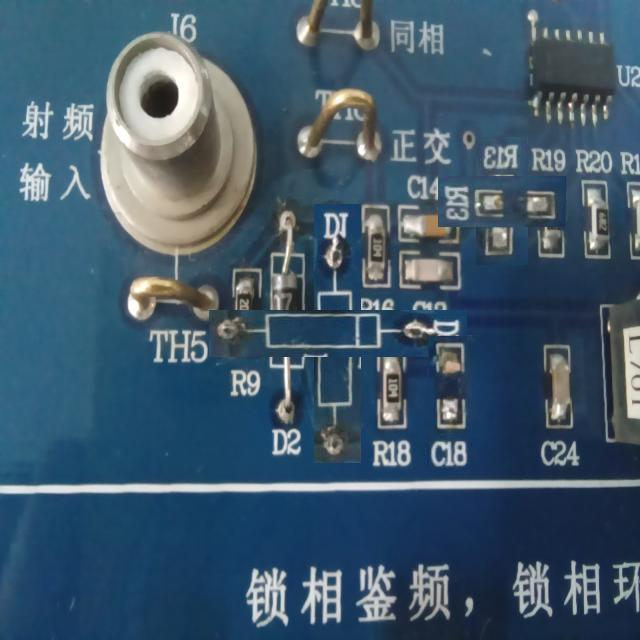miss_welding: (261, 257, 414, 410), (457, 156, 547, 246), (428, 335, 480, 467)
